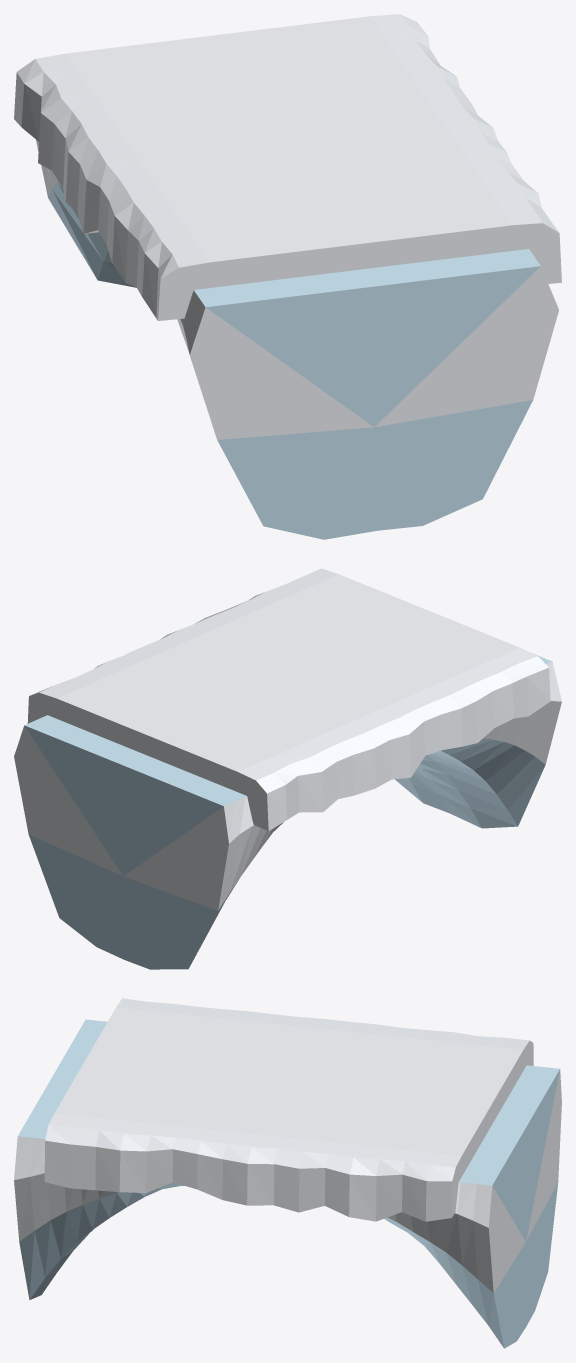
3 renders of one model, top to bottom at view 1: azimuth 30°, elevation 25°; view 2: azimuth 150°, elevation 25°; view 3: azimuth 270°, elevation 25°, orthographic. The views are drawn at different scales.
Visible parts, largest first — view 1: Mesh_L2A_SnowArch_33; view 2: Mesh_L2A_SnowArch_33; view 3: Mesh_L2A_SnowArch_33.
Boxes of the visible parts, x1,y1,x2,y2 form: Mesh_L2A_SnowArch_33: (14, 14, 561, 539); Mesh_L2A_SnowArch_33: (14, 568, 561, 969); Mesh_L2A_SnowArch_33: (14, 998, 561, 1348).
Bounding box in the file's own units: 9.41 × 5.32 × 11.89.
